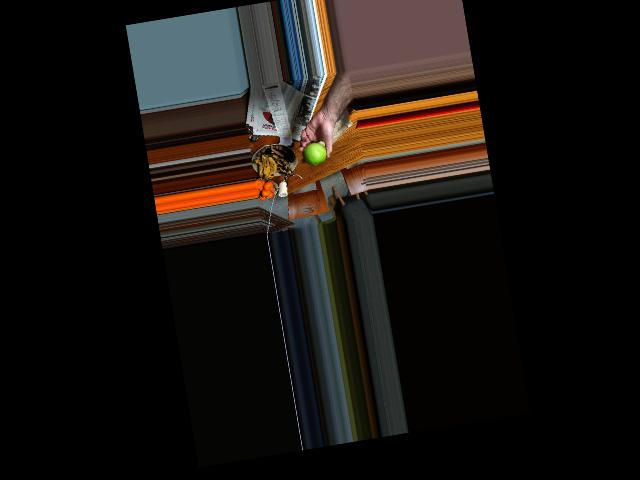apple: (301, 140, 328, 168)
